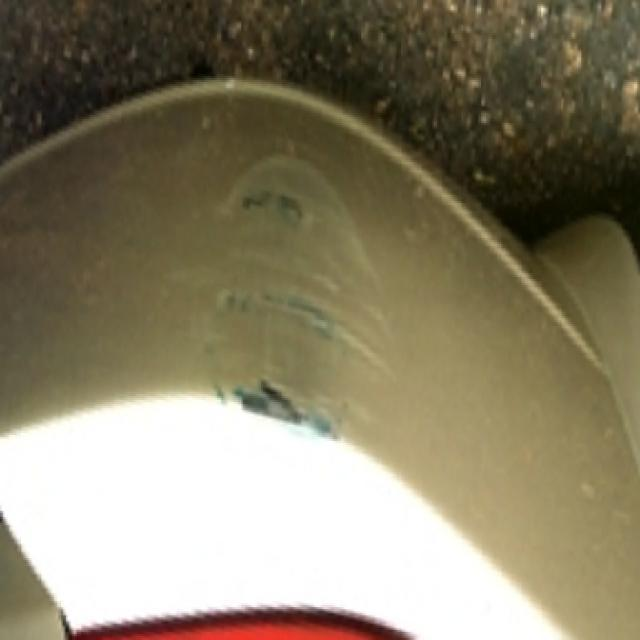scratch: (179, 127, 399, 454)
